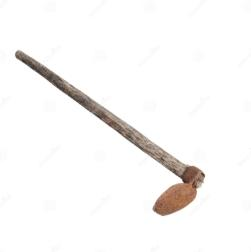HOUE: (13, 45, 212, 217)
